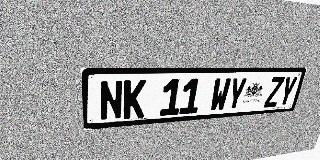1: (160, 79, 183, 116), (179, 78, 202, 114)
K: (123, 80, 146, 119)
N: (99, 80, 123, 121)
W: (209, 78, 231, 112)
Y: (225, 77, 248, 111), (277, 76, 298, 106)
Z: (263, 77, 285, 108)
